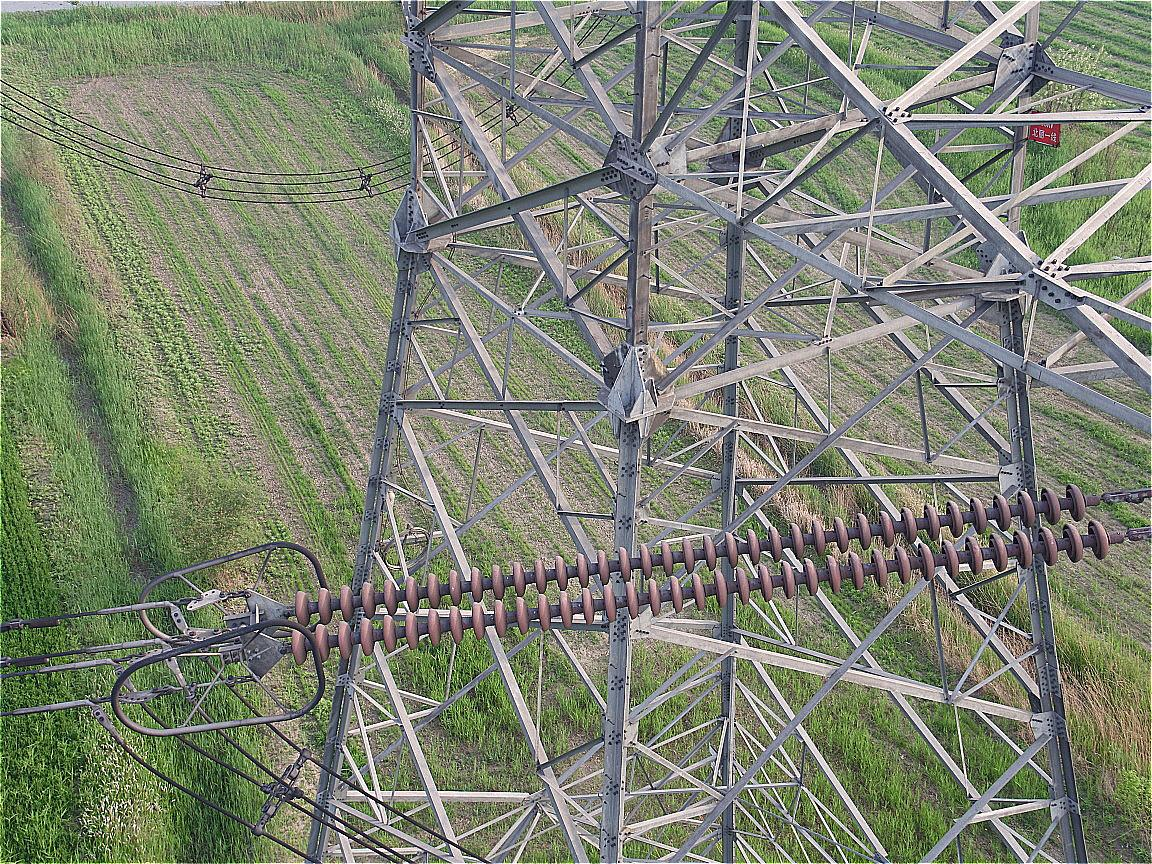insultor1: (271, 478, 1129, 678)
